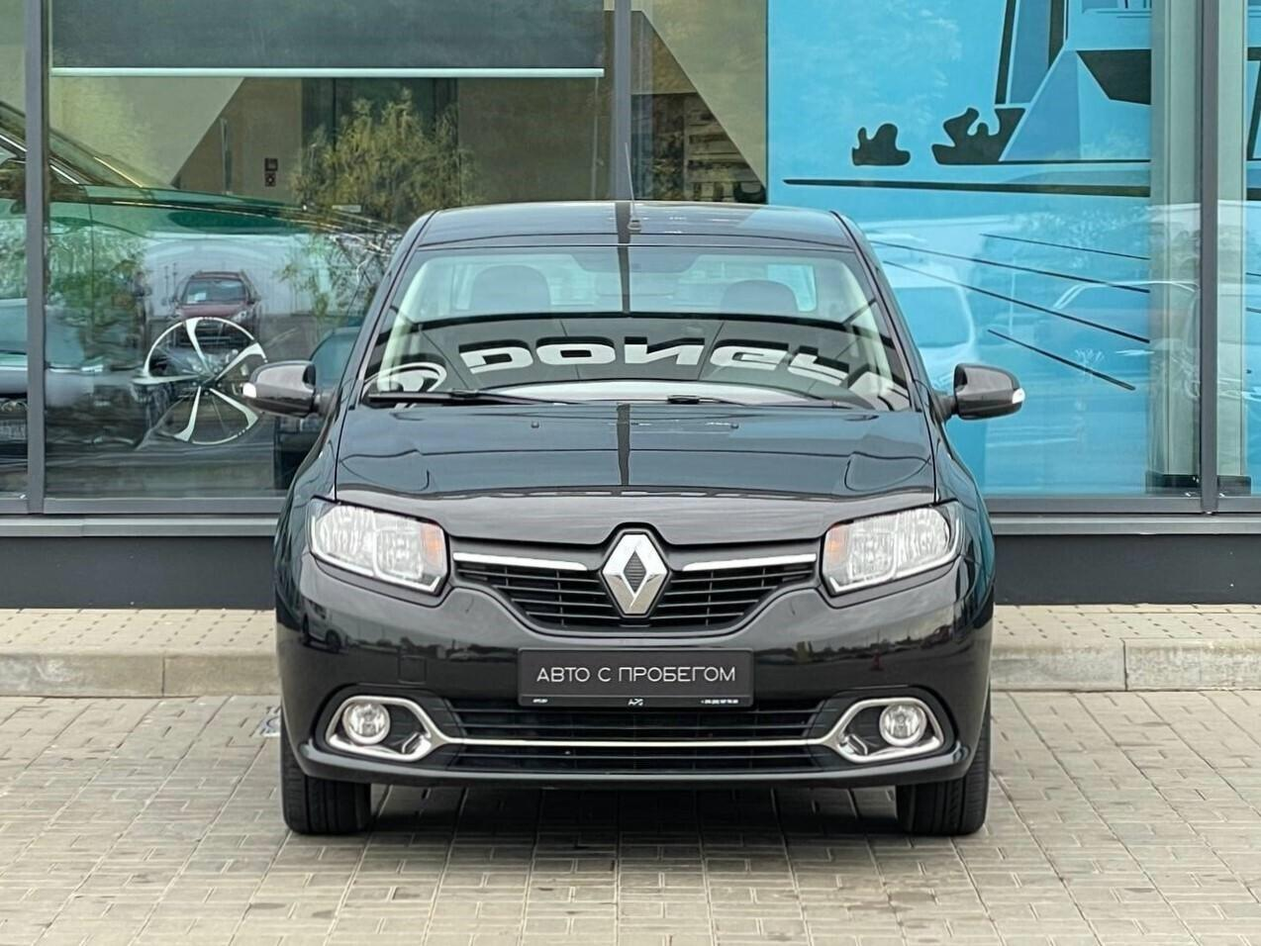Logan_2013-2018: (261, 200, 1011, 842)
